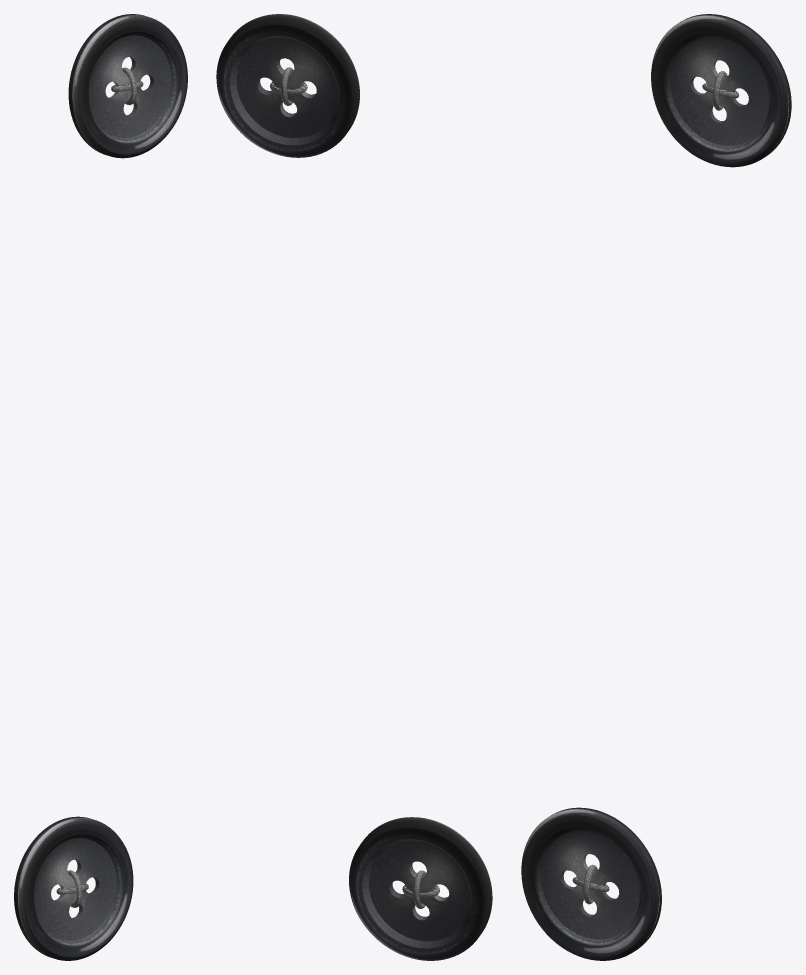
The model's file is doublebuttonbutton.glb.
3 views of the same model, side by side, from view 1: azimuth 30°, elevation 25°; view 2: azimuth 150°, elevation 25°; view 3: azimuth 330°, elevation 25° (orthographic). The views are drawn at different scales.
Visible parts, largest first — view 1: Double_Buttons; view 2: Double_Buttons; view 3: Double_Buttons.
Part boxes in pixels (left/top/right/bottom): Double_Buttons: left=14, top=14, right=187, bottom=960; Double_Buttons: left=216, top=14, right=492, bottom=960; Double_Buttons: left=521, top=14, right=791, bottom=960.
Size of the model in its own units: 0.00484 by 0.0193 by 0.00208.
2 materials, 2 textured.
